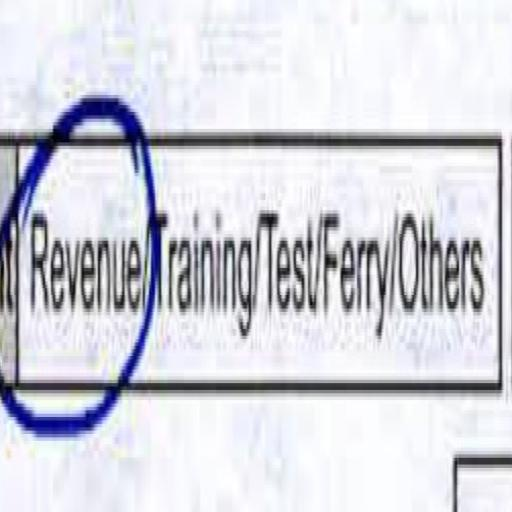check: (25, 66, 150, 436)
